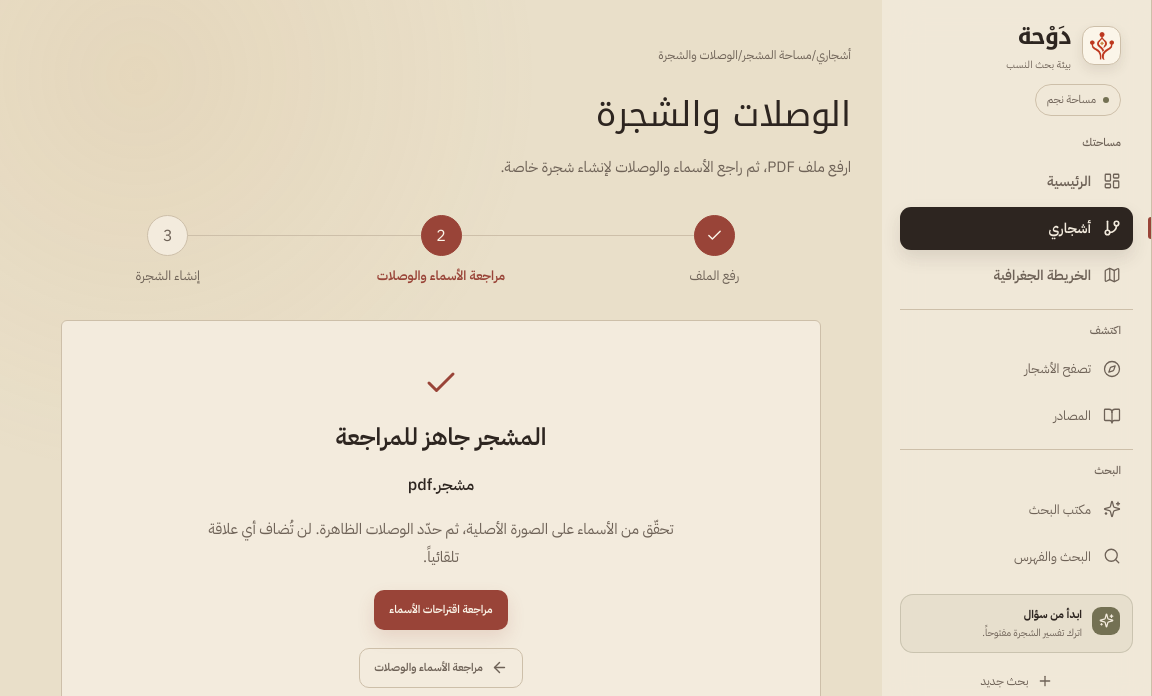
Test case: resumes an uploaded file by URL and opens its review without another upload
Click the button "مراجعة الأسماء والوصلات": click(441, 668) x1=359 y1=648 x2=523 y2=688
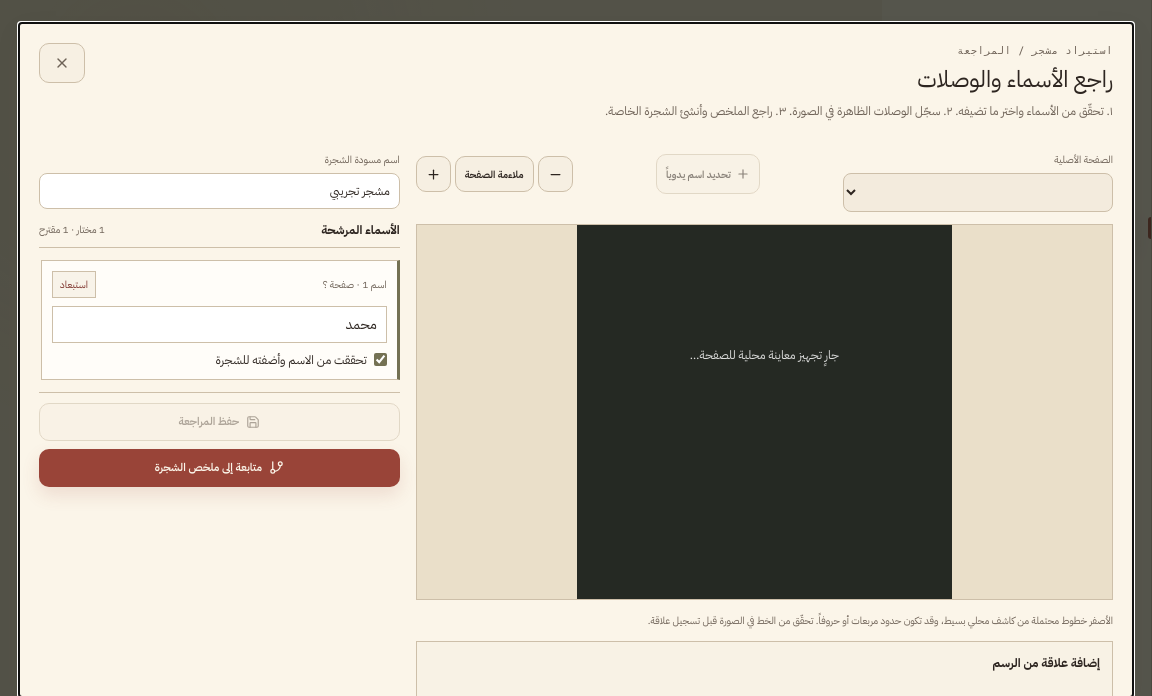
Now the dialog shows "راجع الأسماء والوصلات", box x1=917 y1=62 x2=1113 y2=97
